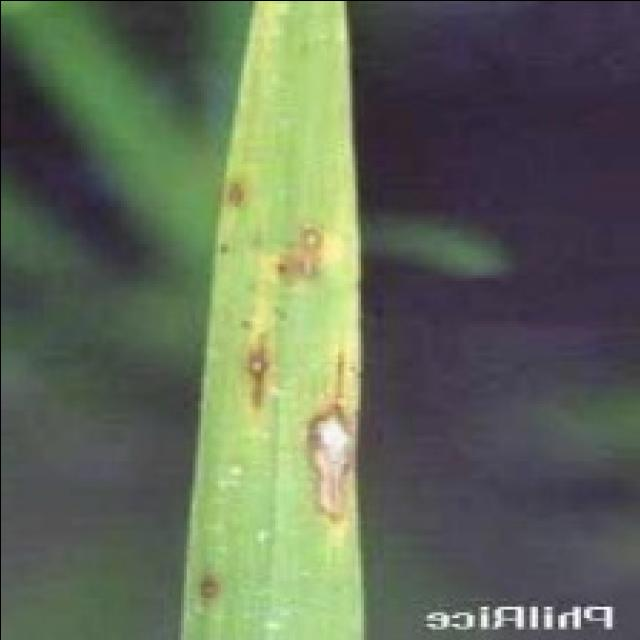Unhealthy: (241, 222, 341, 426), (301, 339, 356, 551), (194, 570, 218, 601), (224, 178, 243, 206), (217, 240, 228, 254)
